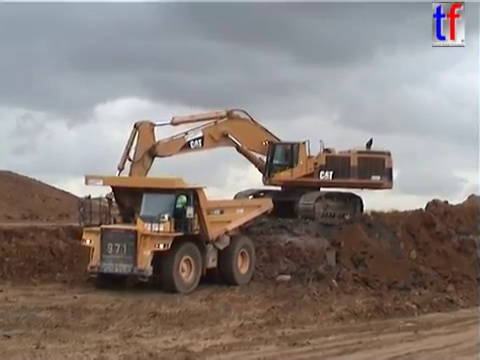excavator: (102, 106, 396, 240)
truck: (76, 173, 275, 295)
worker: (172, 188, 188, 233)
